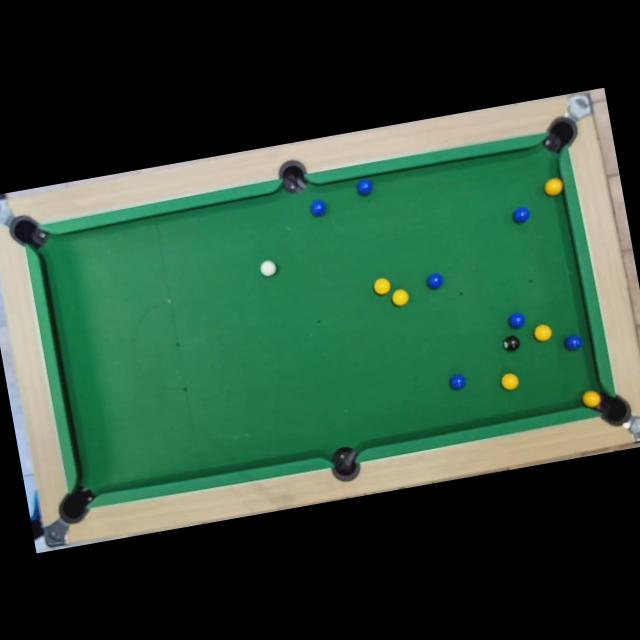Ball: (532, 322, 554, 342), (390, 286, 410, 307), (447, 372, 467, 392), (499, 372, 520, 391), (425, 271, 445, 290), (511, 205, 530, 224), (544, 177, 563, 196), (563, 333, 582, 352), (309, 198, 328, 217), (506, 311, 526, 329), (356, 178, 375, 196), (372, 278, 391, 296), (582, 389, 600, 408), (502, 334, 520, 352), (259, 258, 277, 276)
